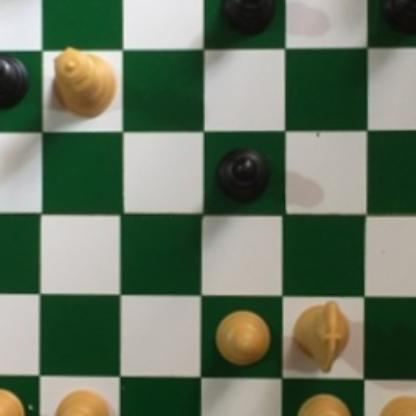black-pawn: (215, 145, 272, 205), (220, 0, 279, 40), (0, 52, 32, 112), (374, 0, 416, 38)
white-knight: (289, 297, 353, 373)
white-pawn: (211, 304, 271, 371), (53, 383, 112, 416), (290, 391, 355, 416), (0, 383, 32, 416), (373, 396, 416, 416)
white-queen: (50, 45, 119, 121)
